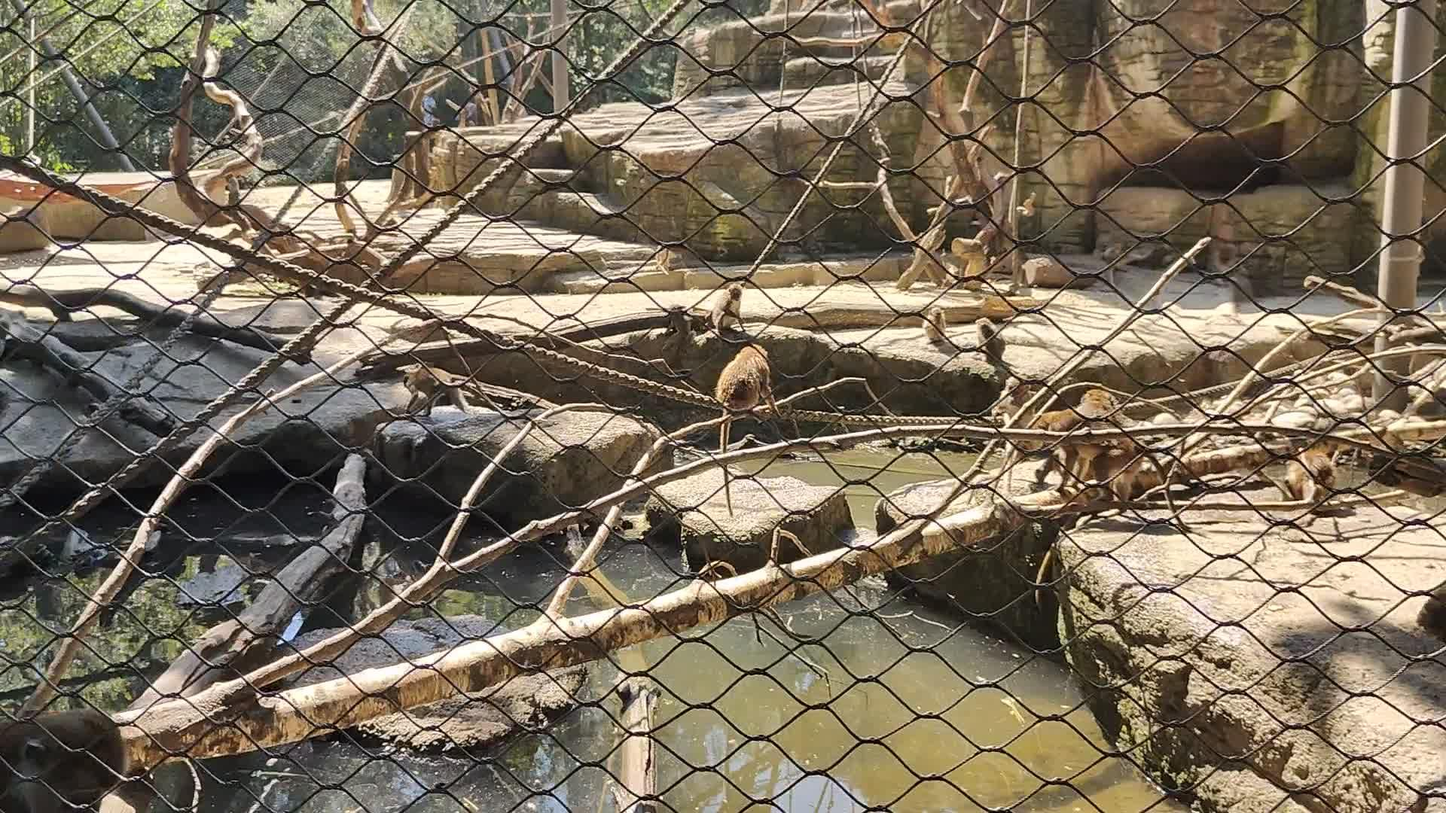boar: (1038, 416, 1192, 534), (715, 343, 781, 517), (991, 376, 1035, 495), (403, 367, 468, 417), (712, 283, 745, 336), (922, 307, 946, 344)
